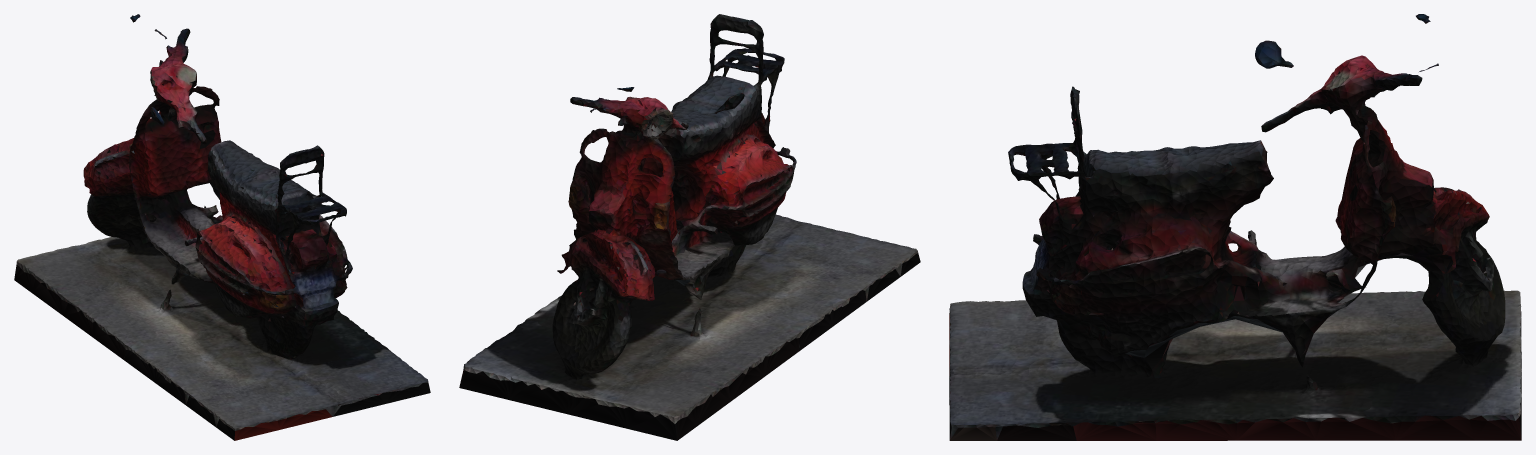
The model's file is david_bike_hall_3.obj.
The picture shows the model from 3 angles, left to right: view 1: azimuth 30°, elevation 25°; view 2: azimuth 150°, elevation 25°; view 3: azimuth 270°, elevation 25°; orthographic projection. The views are drawn at different scales.
Parts seen in each view (by area): view 1: david_bike_hall_3; view 2: david_bike_hall_3; view 3: david_bike_hall_3.
Boxes of the visible parts, x1,y1,x2,y2 form: david_bike_hall_3: (14,14,430,440); david_bike_hall_3: (459,14,920,440); david_bike_hall_3: (949,14,1521,440).
Size of the model in its own units: 0.9257 by 1.22 by 1.79.
